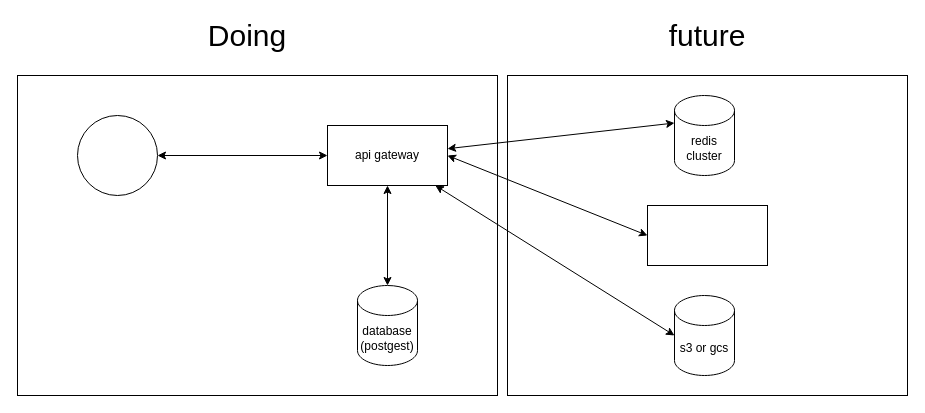
This 925x413 diagram has some shape labels left out. Here are the shapes that lost their labels. From the top down, the box of each, then its label:
(76, 114, 158, 196): client
(646, 204, 768, 266): font end (web,mobile)
